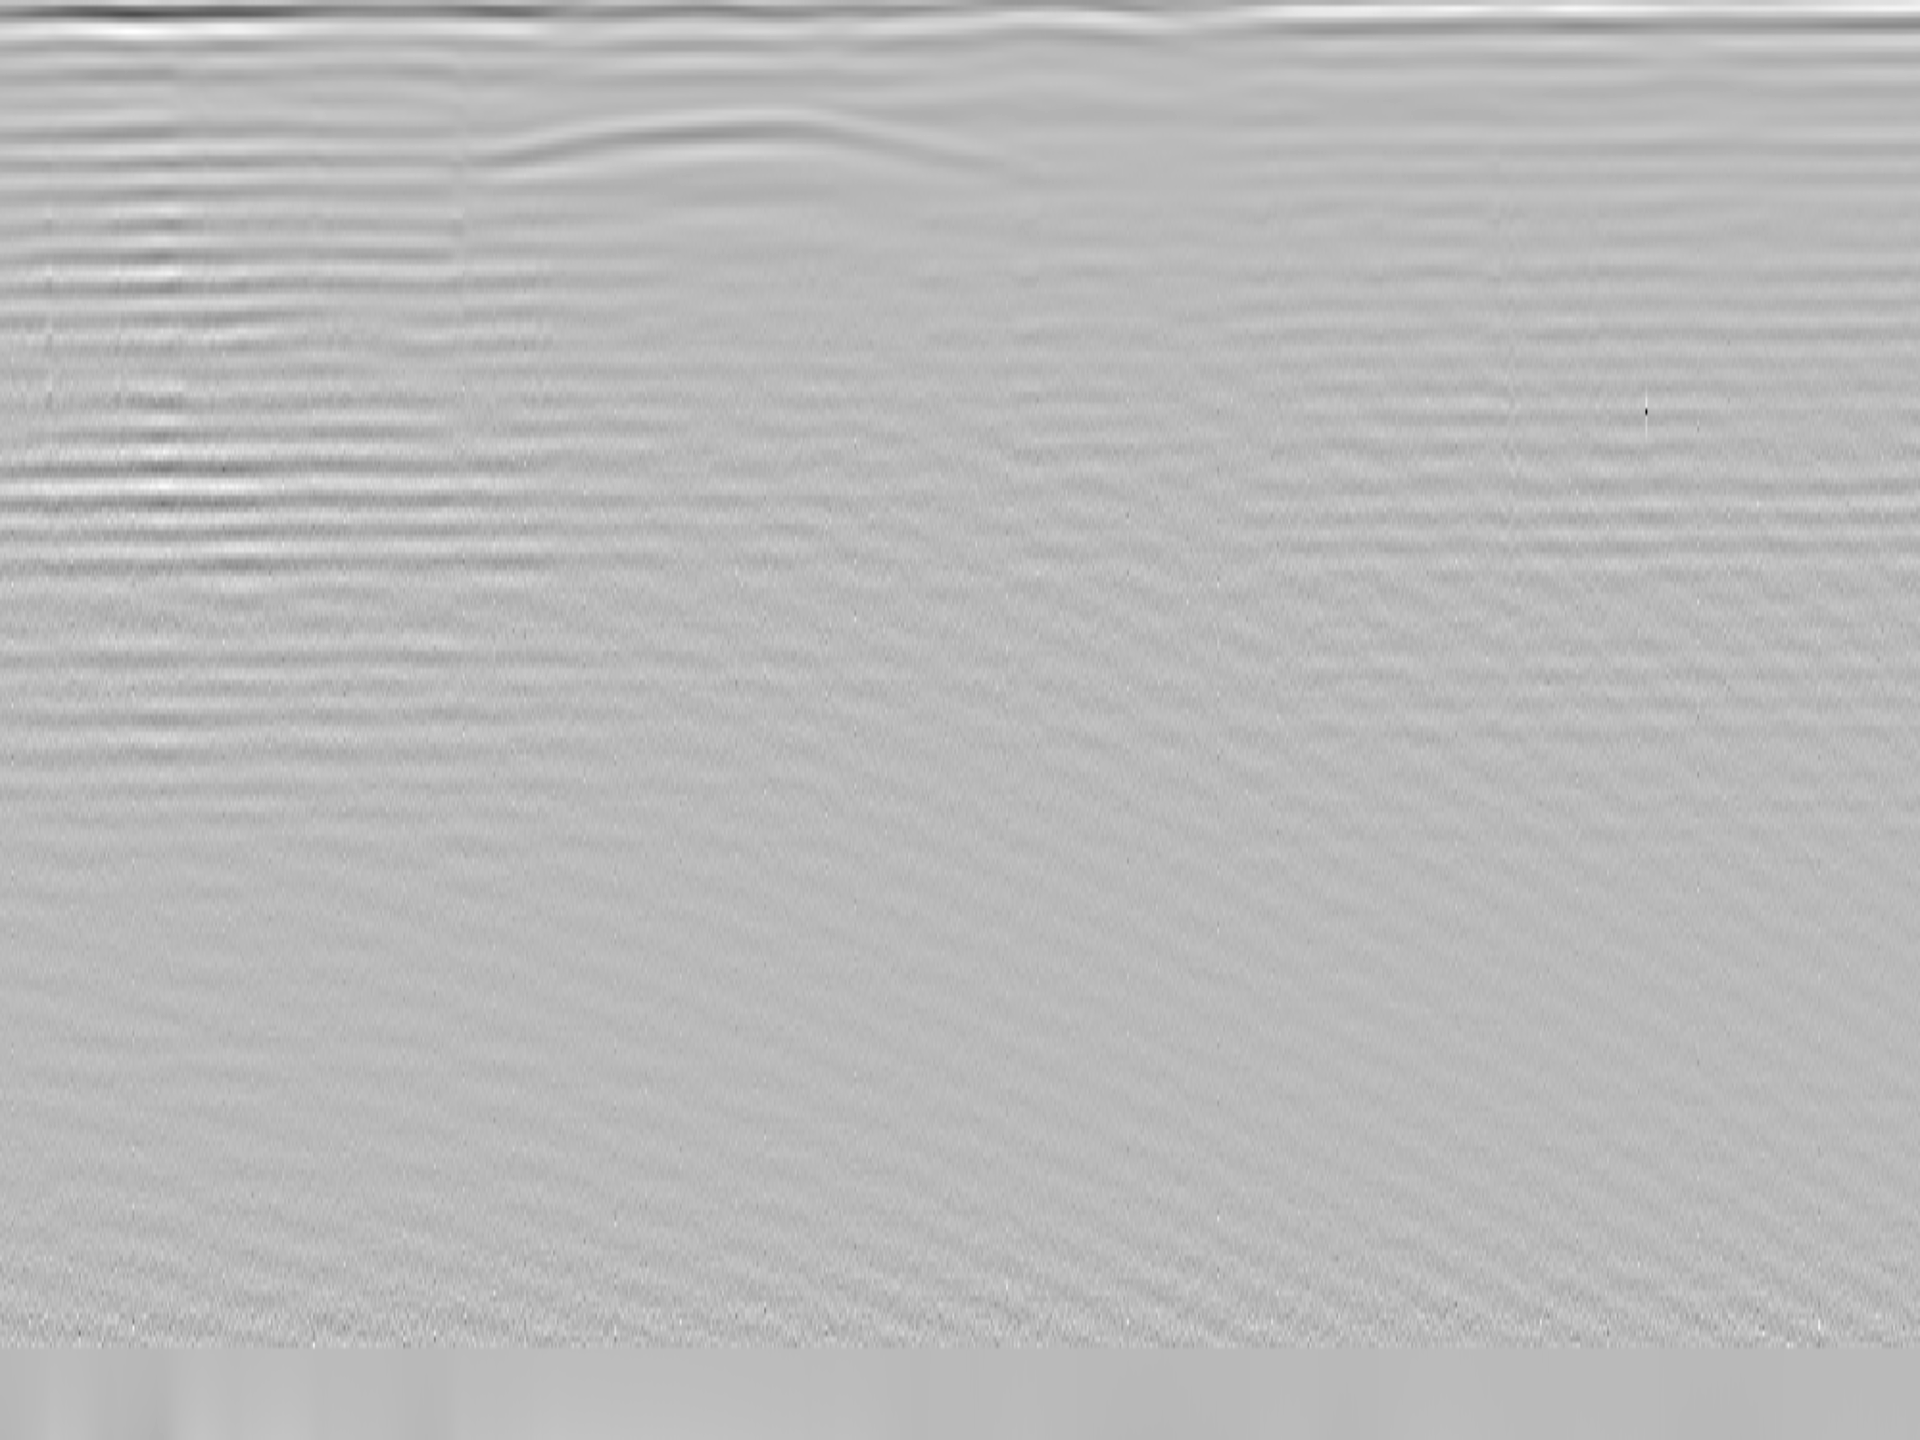Tunnel: (446, 109, 1040, 178)
